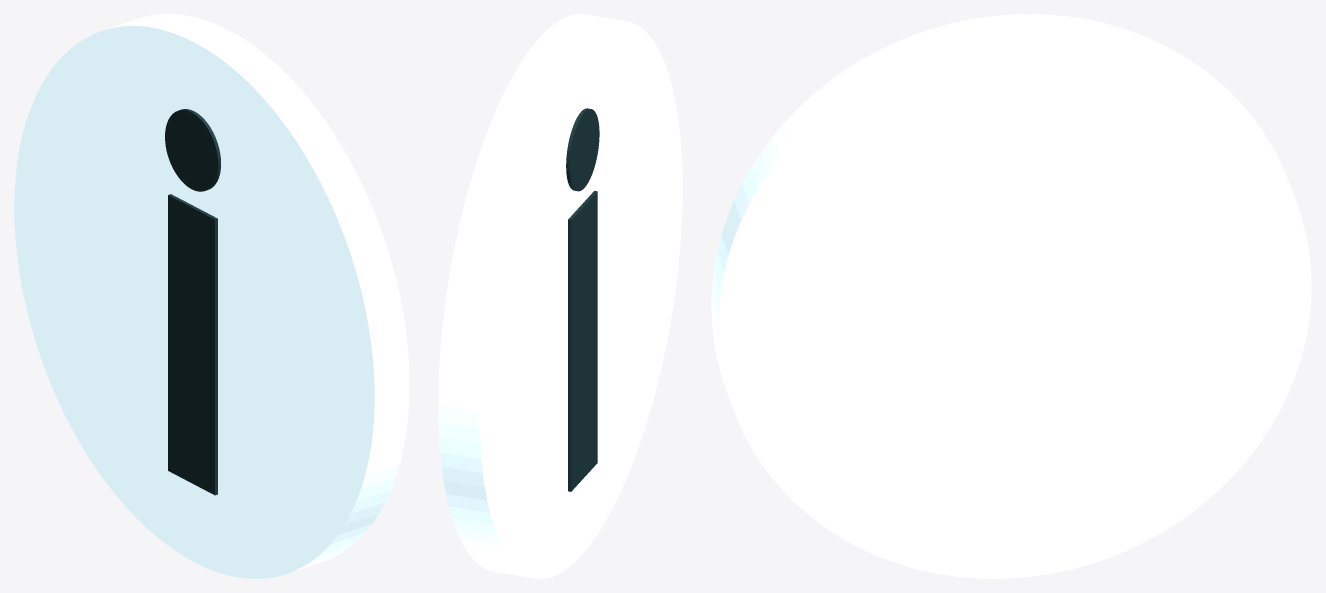
The model's file is exterior-roof-circle.glb.
The picture shows the model from 3 angles, left to right: view 1: azimuth 30°, elevation 25°; view 2: azimuth 150°, elevation 25°; view 3: azimuth 270°, elevation 25°; orthographic projection. The views are drawn at different scales.
Visible parts, largest first — view 1: H-SG-001_roof_information_circle; view 2: H-SG-001_roof_information_circle; view 3: H-SG-001_roof_information_circle.
Boxes of the visible parts, x1,y1,x2,y2 form: H-SG-001_roof_information_circle: [14, 14, 409, 578]; H-SG-001_roof_information_circle: [438, 14, 682, 578]; H-SG-001_roof_information_circle: [711, 14, 1311, 578].
Bounding box in the file's own units: 0.1069 × 0.46 × 0.46.
